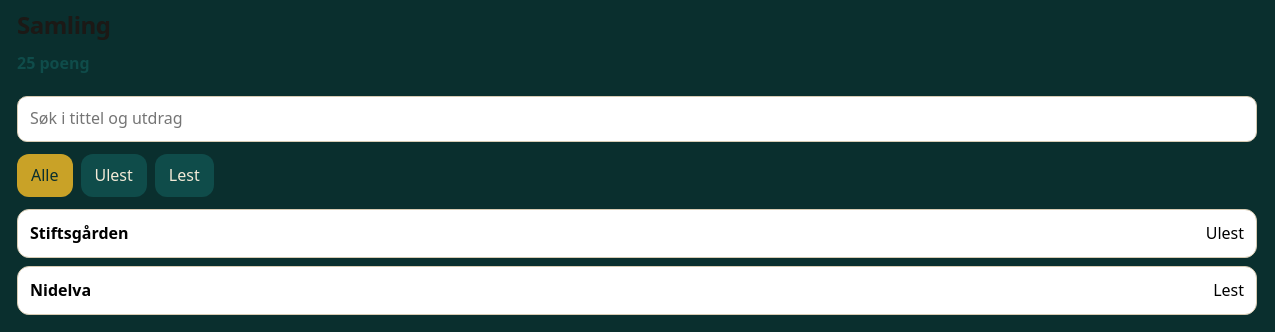
Test: search for stifts hides the other card
Type "stifts" into the search field. click: (637, 119)
box: [17, 96, 1257, 142]
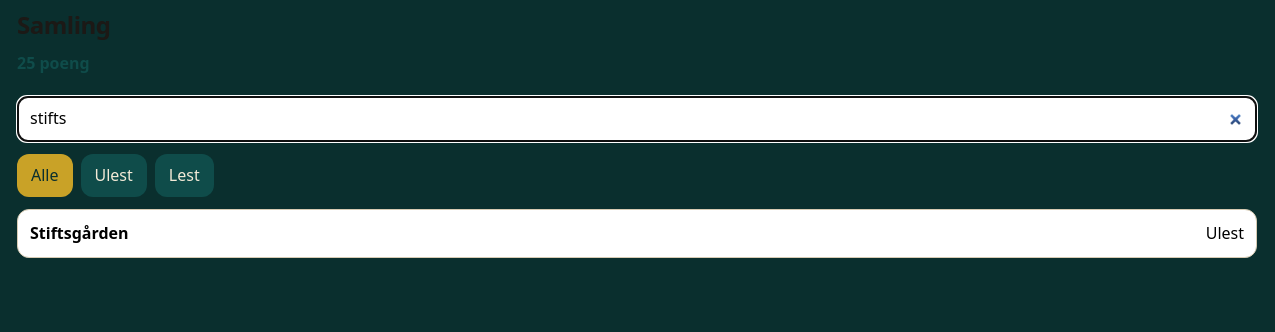
expect the text "Stiftsgården" is shown: met, box [30, 222, 129, 245]
expect the button "Nidelva" is gone: met
